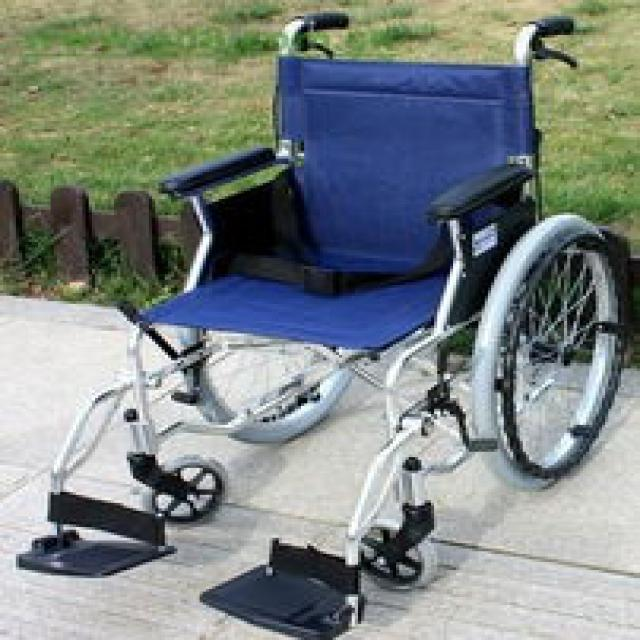wheelchair: (0, 5, 624, 638)
